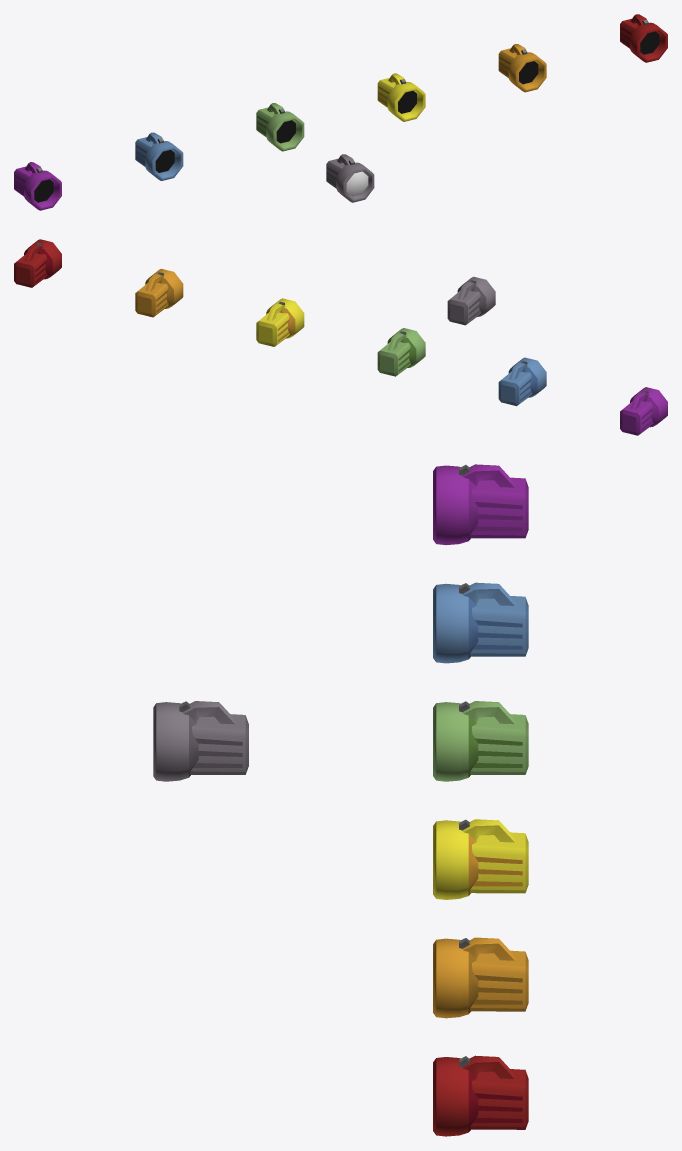
File: Flashlights.fbx
The picture shows the model from 3 angles, top to bottom: view 1: azimuth 30°, elevation 25°; view 2: azimuth 150°, elevation 25°; view 3: azimuth 270°, elevation 25°; orthographic projection. The views are drawn at different scales.
Visible parts, largest first — view 1: FlashlightYellow, FlashlightOrange, FlashlightBlue, FlashlightGreen, FlashlightPurple, FlashlightRed, FlashlightGrey, FlashlightBulb; view 2: FlashlightBlue, FlashlightGreen, FlashlightGrey, FlashlightYellow, FlashlightOrange, FlashlightPurple, FlashlightRed; view 3: FlashlightYellow, FlashlightPurple, FlashlightOrange, FlashlightBlue, FlashlightRed, FlashlightGrey, FlashlightGreen.
Boxes of the visible parts, bbox=[...] form: FlashlightYellow: bbox=[377, 73, 425, 121]; FlashlightOrange: bbox=[498, 44, 546, 92]; FlashlightBlue: bbox=[135, 132, 183, 180]; FlashlightGreen: bbox=[256, 103, 304, 151]; FlashlightPurple: bbox=[14, 162, 61, 210]; FlashlightRed: bbox=[620, 14, 667, 62]; FlashlightGrey: bbox=[326, 154, 374, 202]; FlashlightBulb: bbox=[346, 171, 368, 196]; FlashlightBlue: bbox=[498, 357, 546, 406]; FlashlightGreen: bbox=[377, 328, 425, 376]; FlashlightGrey: bbox=[447, 276, 495, 325]; FlashlightYellow: bbox=[256, 298, 304, 346]; FlashlightOrange: bbox=[135, 268, 183, 317]; FlashlightPurple: bbox=[620, 387, 667, 435]; FlashlightRed: bbox=[14, 239, 61, 287]; FlashlightYellow: bbox=[433, 819, 528, 899]; FlashlightPurple: bbox=[433, 464, 528, 545]; FlashlightOrange: bbox=[433, 937, 528, 1018]; FlashlightBlue: bbox=[433, 582, 528, 663]; FlashlightRed: bbox=[433, 1055, 528, 1136]; FlashlightGrey: bbox=[153, 701, 248, 781]; FlashlightGreen: bbox=[433, 701, 528, 781].
Size of the model in its own units: 5.26 by 0.2854 by 1.34.
